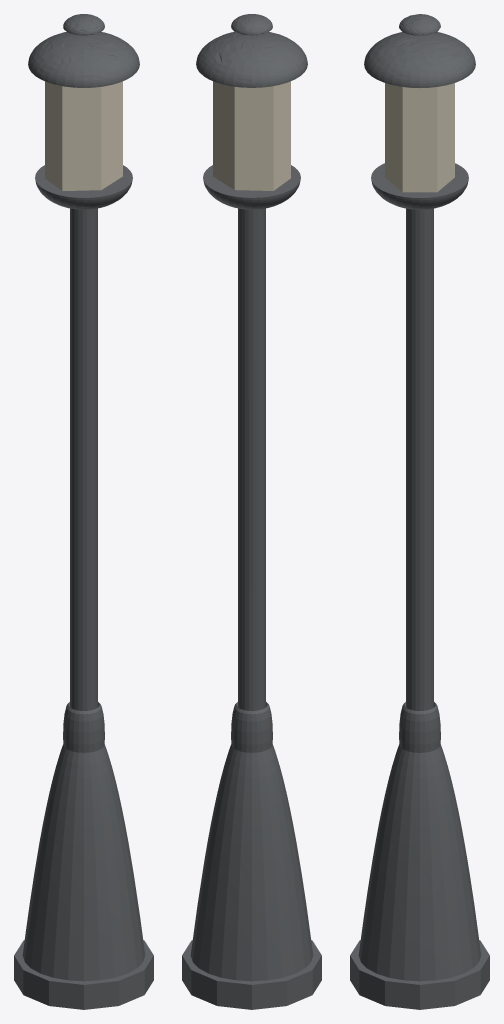
The model's file is streetlamp_1.glb.
3 views of the same model, side by side, from view 1: azimuth 30°, elevation 25°; view 2: azimuth 150°, elevation 25°; view 3: azimuth 270°, elevation 25° (orthographic).
Visible parts, largest first — view 1: Mesh_Mesh_head_geo.001_lambert2SG.001; view 2: Mesh_Mesh_head_geo.001_lambert2SG.001; view 3: Mesh_Mesh_head_geo.001_lambert2SG.001.
Boxes of the visible parts, bbox=[...] form: Mesh_Mesh_head_geo.001_lambert2SG.001: bbox=[14, 14, 153, 1009]; Mesh_Mesh_head_geo.001_lambert2SG.001: bbox=[182, 14, 321, 1009]; Mesh_Mesh_head_geo.001_lambert2SG.001: bbox=[350, 14, 489, 1009].
Bounding box in the file's own units: 10 × 76 × 10.
